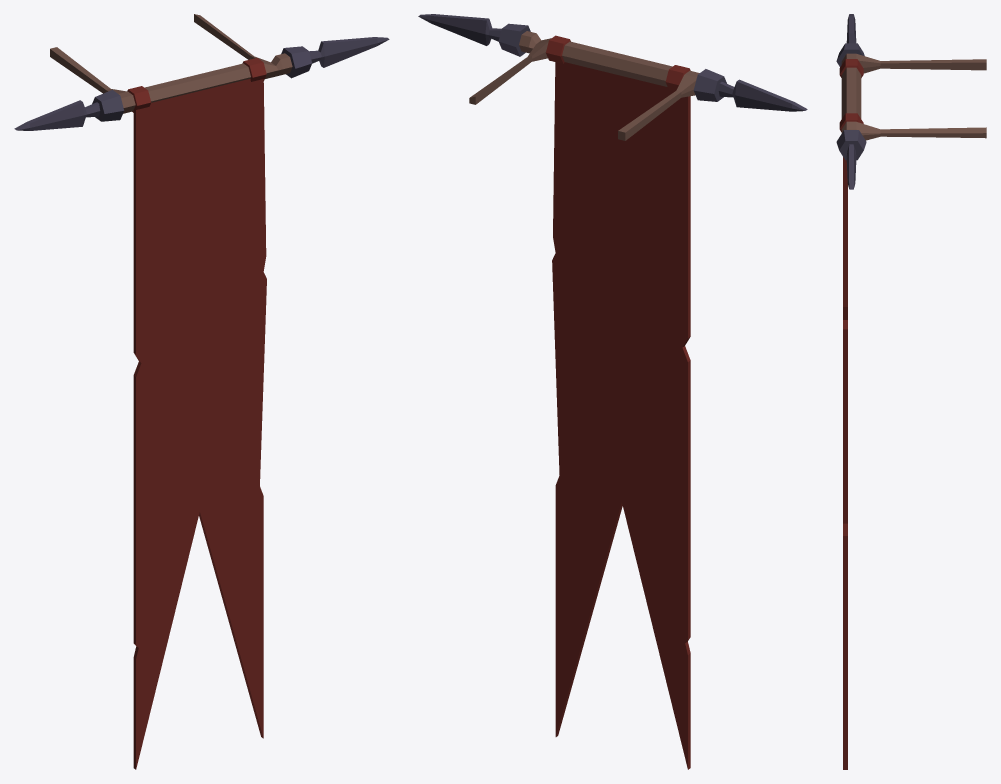
Rendered from quaternius-modular-dungeon-1-banner-wall.glb.
3 views of the same model, side by side, from view 1: azimuth 30°, elevation 25°; view 2: azimuth 150°, elevation 25°; view 3: azimuth 270°, elevation 25° (orthographic). The views are drawn at different scales.
Visible parts, largest first — view 1: Banner_wall; view 2: Banner_wall; view 3: Banner_wall.
Boxes of the visible parts, <box> form: Banner_wall: <box>14,14,389,769</box>; Banner_wall: <box>418,14,807,769</box>; Banner_wall: <box>836,14,986,769</box>.
Size of the model in its own units: 1.64 by 2.85 by 0.5929.
